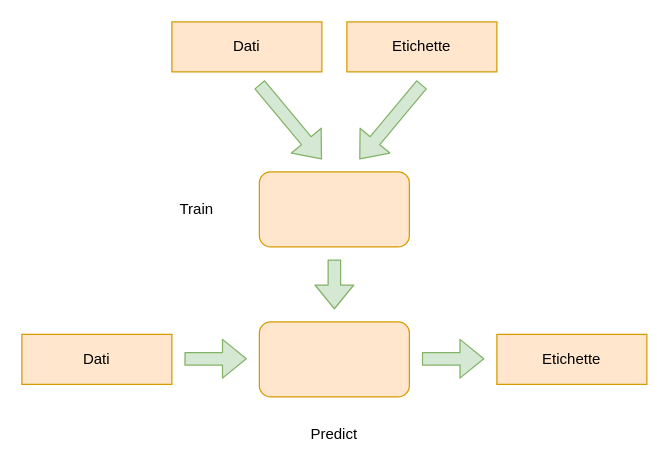
Some shapes in this 669 by 469 pixel diagram are drawn without their labels. Here are the shapes that lost their labels. From the top down, the centre of each, then its label:
At pixel 333 209: "Algoritmo di apprendimento".
At pixel 333 359: "Modello predittivo".
